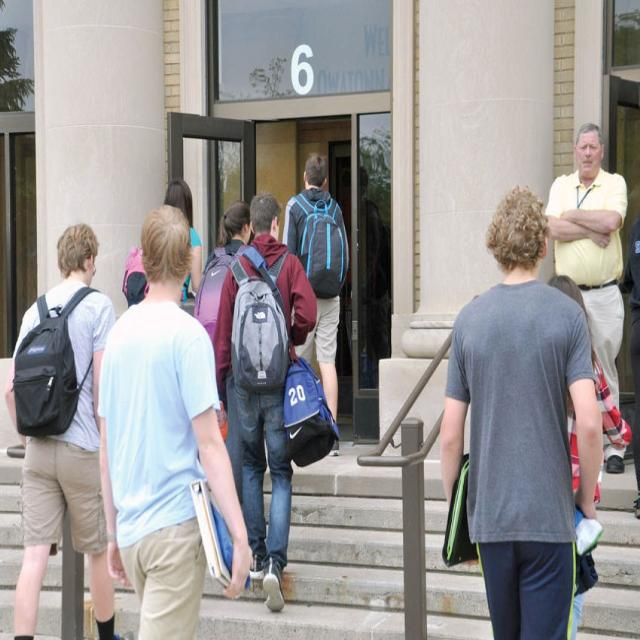body: (440, 175, 607, 639), (92, 197, 251, 639), (2, 216, 136, 639), (212, 192, 318, 614), (537, 118, 629, 475), (545, 272, 632, 638), (280, 152, 349, 458), (191, 202, 254, 436), (217, 10, 378, 95), (357, 117, 393, 380), (623, 206, 640, 521), (163, 178, 204, 304), (0, 3, 35, 117), (211, 142, 240, 192)
